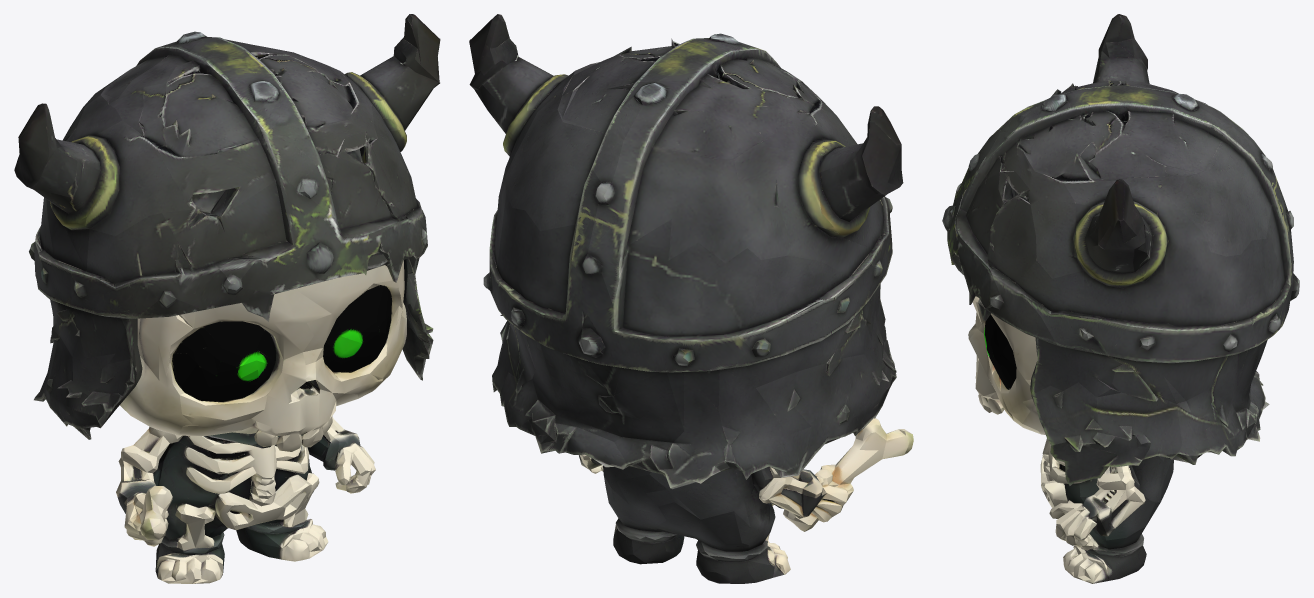
The model's file is bonerattler.glb.
3 renders of one model, left to right at view 1: azimuth 30°, elevation 25°; view 2: azimuth 150°, elevation 25°; view 3: azimuth 270°, elevation 25°, orthographic. The views are drawn at different scales.
Size of the model in its own units: 1.69 by 1.89 by 1.35.
1 material, 1 textured.
